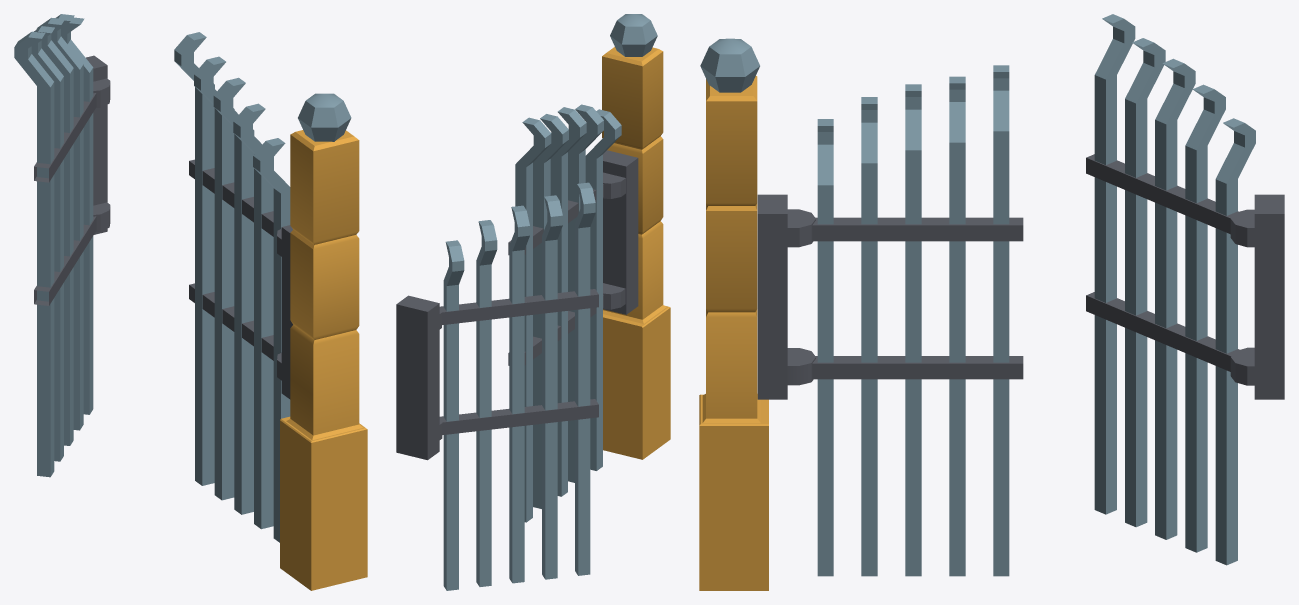
File: Metal_Fence_Door.fbx
3 renders of one model, left to right at view 1: azimuth 30°, elevation 25°; view 2: azimuth 150°, elevation 25°; view 3: azimuth 270°, elevation 25°, orthographic. The views are drawn at different scales.
Parts seen in each view (by area): view 1: Cube.023, Cube.022, Cube.026, Cube.021, Cube.024, Cube.025, Sphere.002, Cylinder.007; view 2: Cube.026, Cube.022, Cube.023, Cube.021, Cube.025, Sphere.002, Cylinder.006, Cube.024; view 3: Cube.026, Cube.023, Cube.022, Cube.021, Cube.024, Cube.025, Sphere.002, Cylinder.006, Cylinder.007.
Boxes of the visible parts, left/top/right/bottom form: Cube.023: left=174, top=32, right=290, bottom=542; Cube.022: left=280, top=130, right=367, bottom=590; Cube.026: left=14, top=14, right=93, bottom=477; Cube.021: left=86, top=55, right=292, bottom=399; Cube.024: left=189, top=159, right=273, bottom=360; Cube.025: left=34, top=93, right=96, bottom=305; Sphere.002: left=298, top=93, right=351, bottom=141; Cylinder.007: left=93, top=78, right=110, bottom=231; Cube.026: left=443, top=182, right=595, bottom=590; Cube.022: left=602, top=47, right=670, bottom=459; Cube.023: left=515, top=104, right=621, bottom=522; Cube.021: left=396, top=150, right=638, bottom=460; Cube.025: left=440, top=289, right=598, bottom=434; Sphere.002: left=610, top=14, right=657, bottom=56; Cylinder.006: left=603, top=172, right=625, bottom=309; Cube.024: left=508, top=184, right=603, bottom=365; Cube.026: left=1094, top=14, right=1255, bottom=565; Cube.023: left=817, top=65, right=1009, bottom=576; Cube.022: left=699, top=76, right=768, bottom=590; Cube.021: left=757, top=194, right=1284, bottom=399; Cube.024: left=812, top=217, right=1023, bottom=379; Cube.025: left=1086, top=154, right=1239, bottom=371; Sphere.002: left=700, top=38, right=759, bottom=92; Cylinder.006: left=787, top=209, right=815, bottom=385; Cylinder.007: left=1230, top=209, right=1254, bottom=385.
Size of the model in its own units: 72.14 by 204 by 201.
